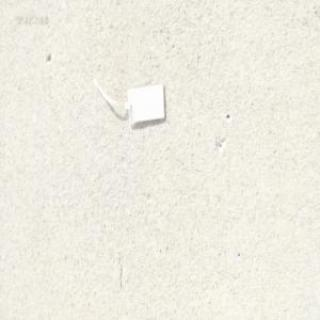LuggageTagtrack_idkeyframe: (89, 74, 165, 128)
